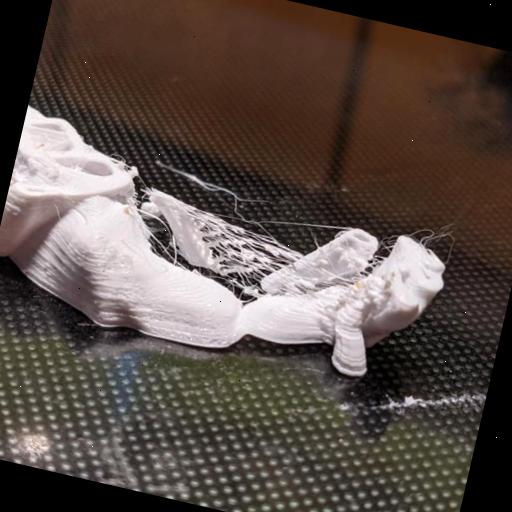stringing: (189, 214, 310, 308)
